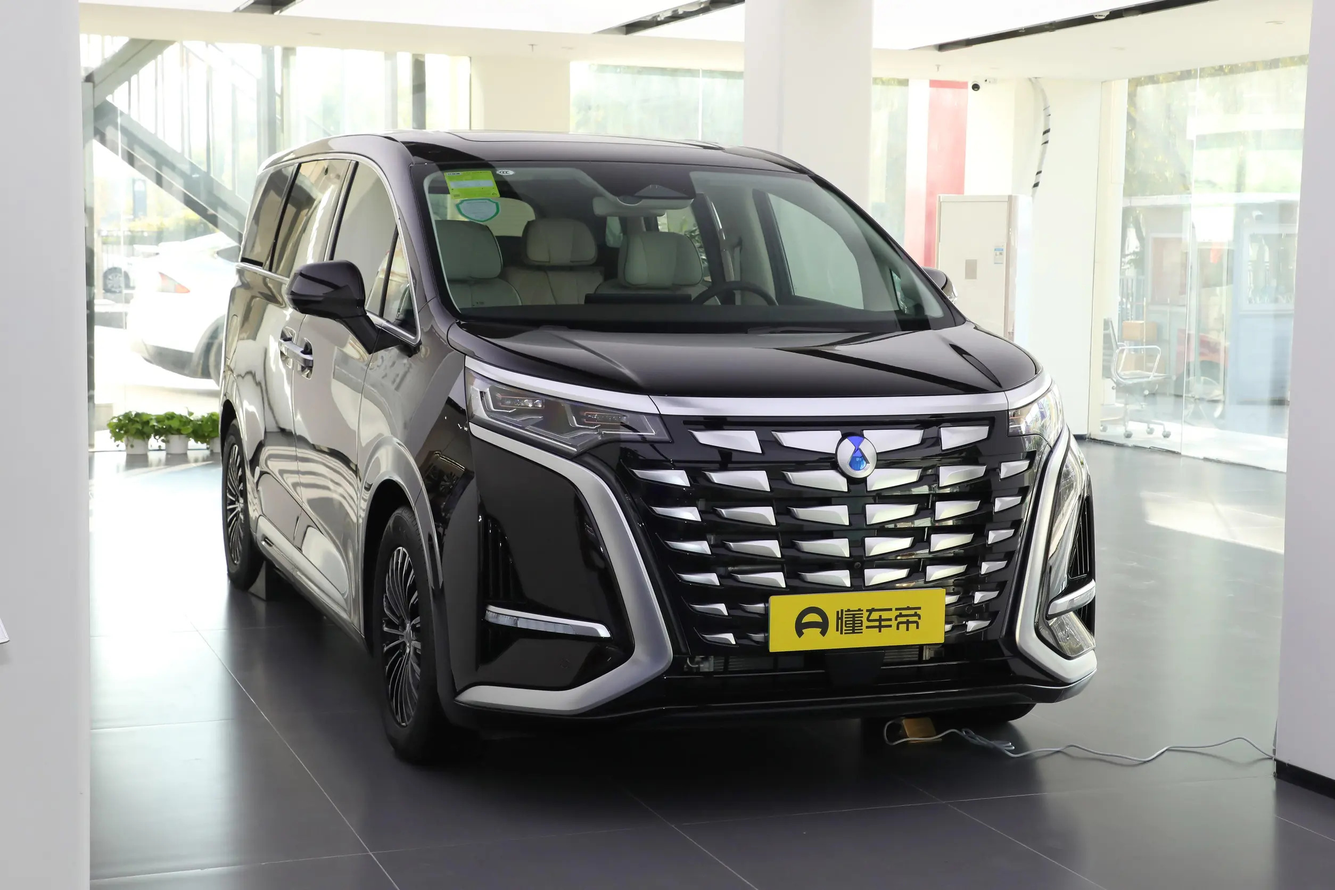DENZA: (837, 435, 877, 477)
